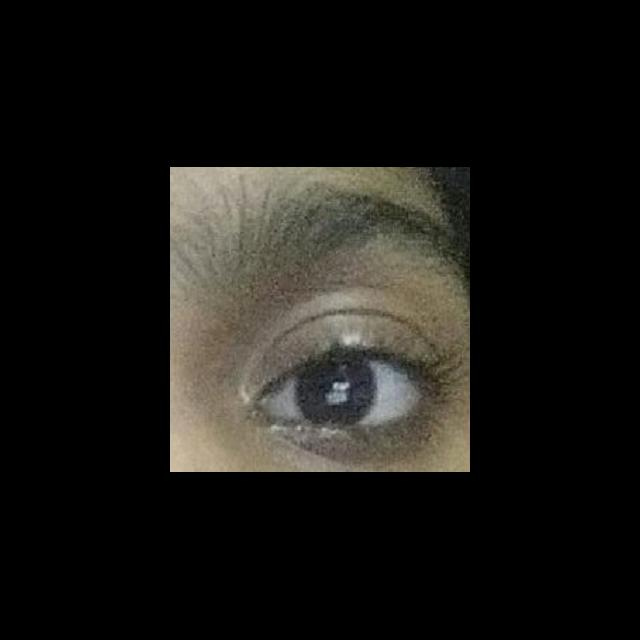eye: (273, 354, 420, 427)
iris: (297, 359, 375, 424)
